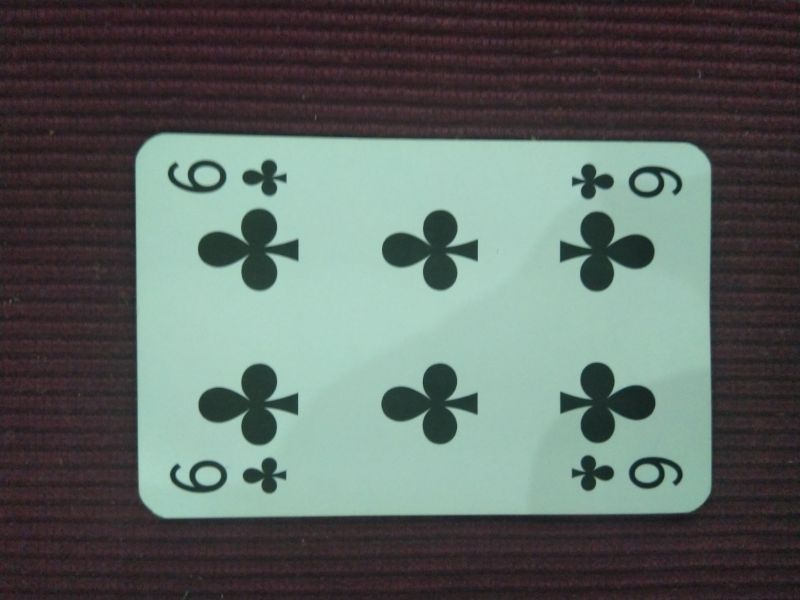6c: (162, 150, 294, 199), (564, 451, 691, 497), (562, 160, 685, 205), (167, 455, 289, 499)
